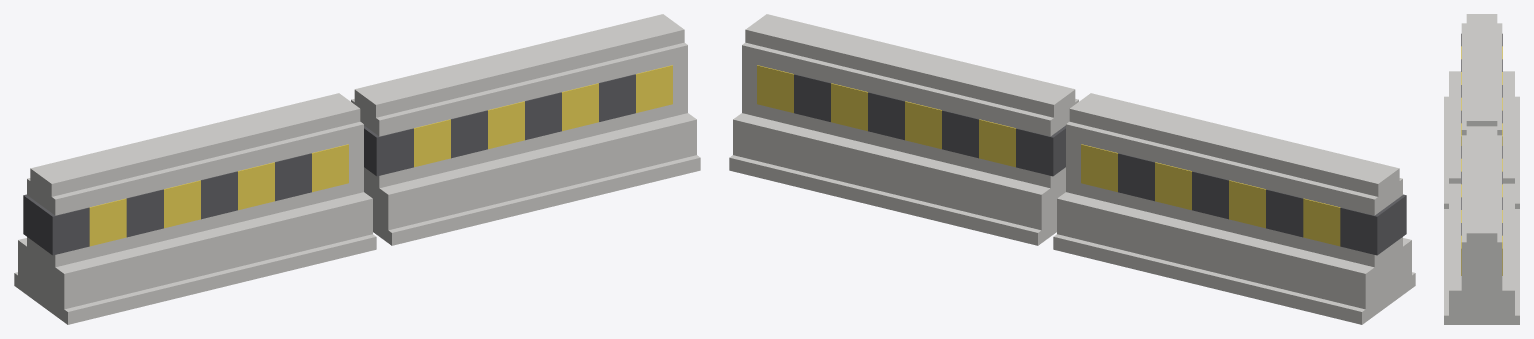
The model's file is Cover_Road_Barrier.fbx.
The picture shows the model from 3 angles, left to right: view 1: azimuth 30°, elevation 25°; view 2: azimuth 150°, elevation 25°; view 3: azimuth 270°, elevation 25°; orthographic projection. The views are drawn at different scales.
Parts seen in each view (by area): view 1: Cover_Road_Barrier; view 2: Cover_Road_Barrier; view 3: Cover_Road_Barrier.
Boxes of the visible parts, bbox=[...] form: Cover_Road_Barrier: bbox=[14, 14, 700, 324]; Cover_Road_Barrier: bbox=[729, 14, 1415, 324]; Cover_Road_Barrier: bbox=[1444, 14, 1519, 324].
Bounding box in the file's own units: 4.12 × 0.8 × 0.6.
